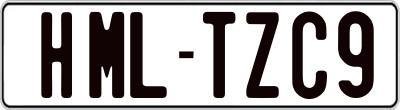9: (335, 9, 373, 97)
C: (290, 10, 329, 98)
H: (41, 11, 77, 100)
L: (128, 9, 168, 97)
M: (86, 9, 126, 98)
T: (200, 9, 232, 101)
Z: (245, 11, 282, 98)
